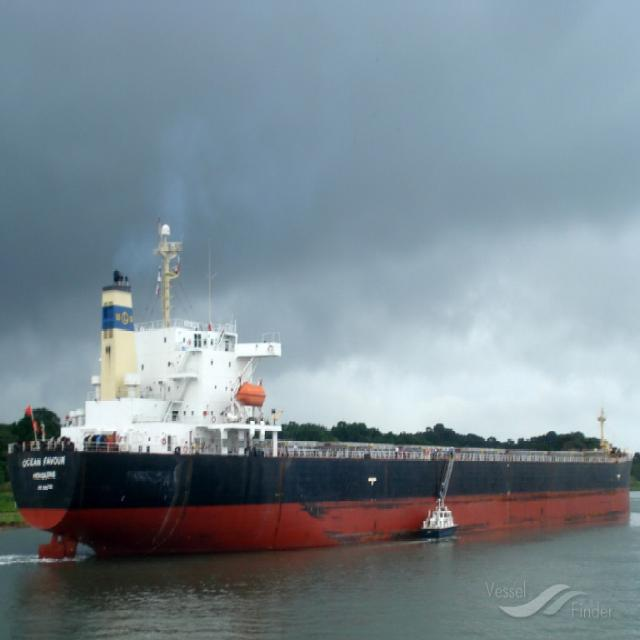OCR: (15, 451, 67, 500)
